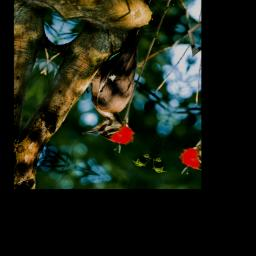Woodpecker: (66, 17, 174, 151)
